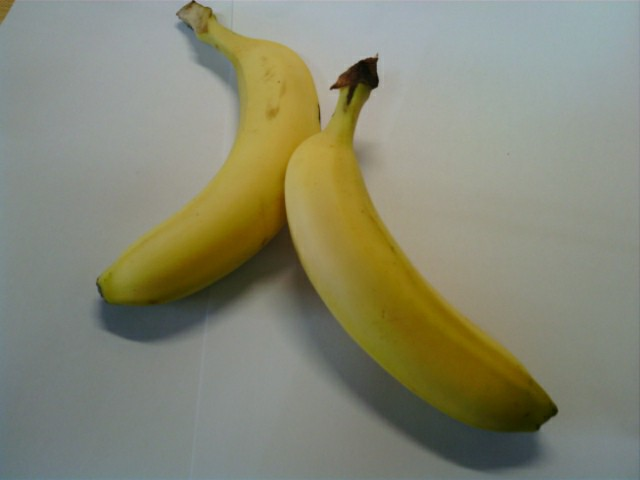fresh_banana: (290, 114, 560, 433), (95, 44, 318, 308)
